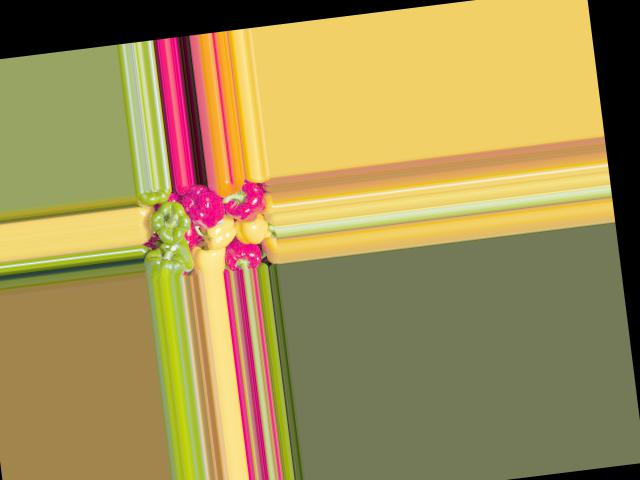bell_pepper: (134, 186, 174, 212)
